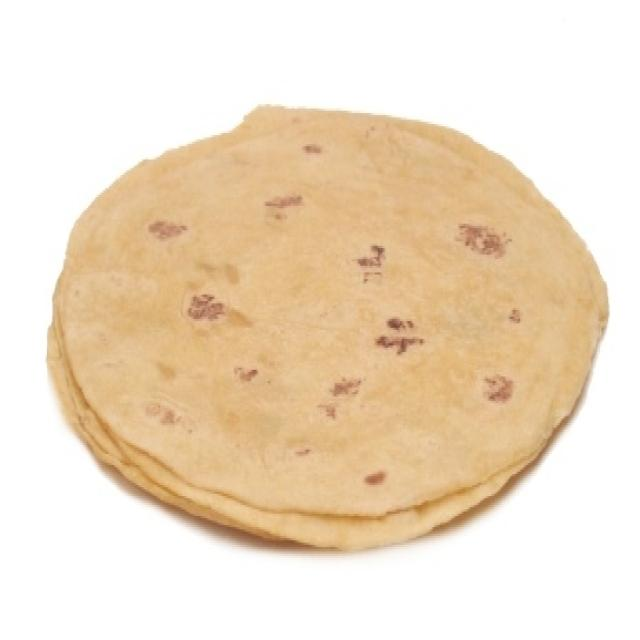面包点心: (33, 93, 601, 571)
